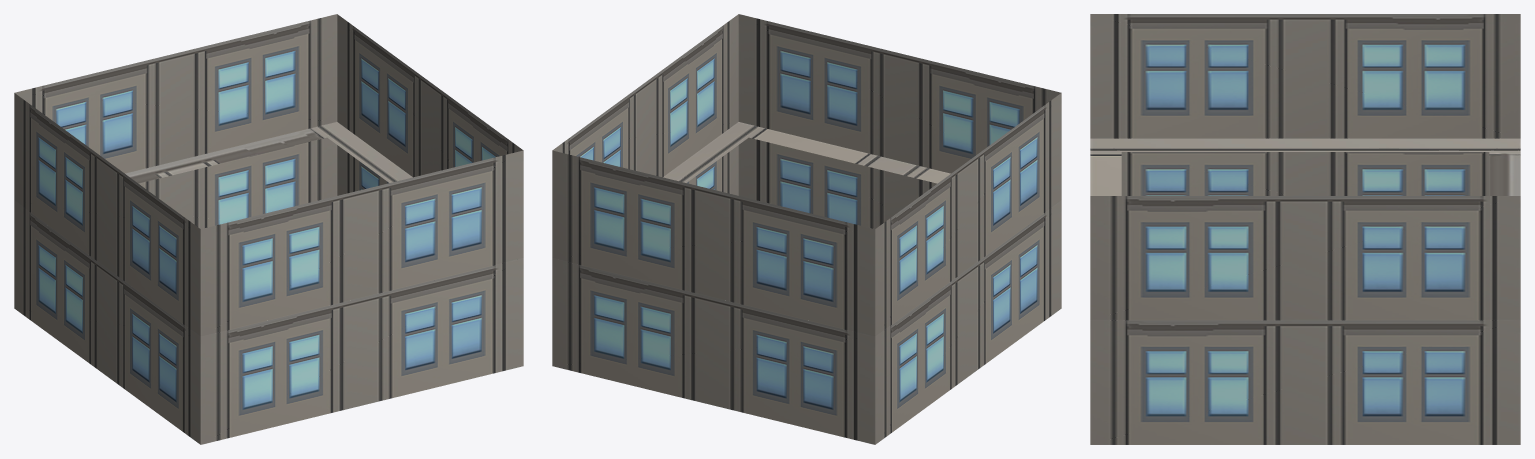
The model's file is lou.FBX.
3 renders of one model, left to right at view 1: azimuth 30°, elevation 25°; view 2: azimuth 150°, elevation 25°; view 3: azimuth 270°, elevation 25°, orthographic. The views are drawn at different scales.
Parts seen in each view (by area): view 1: lou; view 2: lou; view 3: lou.
Part boxes in pixels (x1,y1,x2,y2): lou: [14, 14, 523, 444]; lou: [552, 14, 1061, 444]; lou: [1090, 14, 1520, 444].
Bounding box in the file's own units: 10 × 6.39 × 10.
